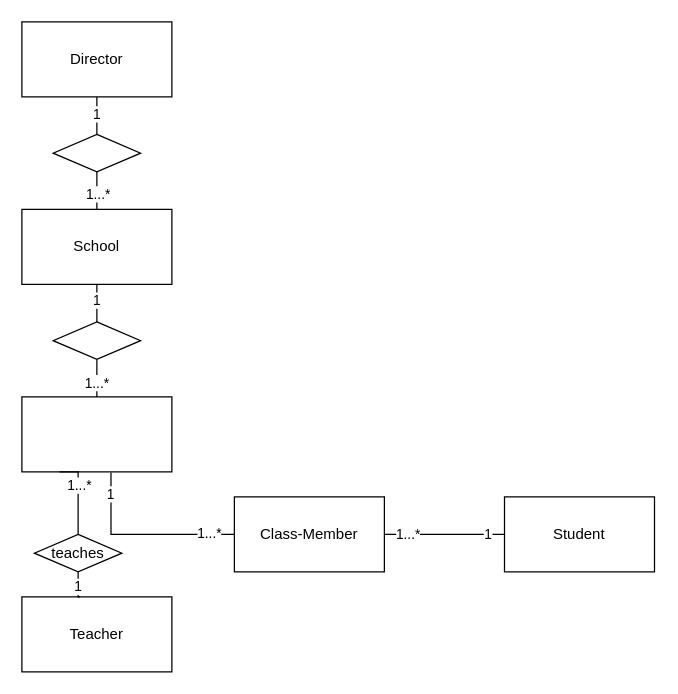
Some shapes in this 678 by 694 pixel diagram are drawn without their labels. The centre of each missing label's shape, as x and y in pixels:
Class: pixel 96 434
contains: pixel 96 340
directs: pixel 96 152
